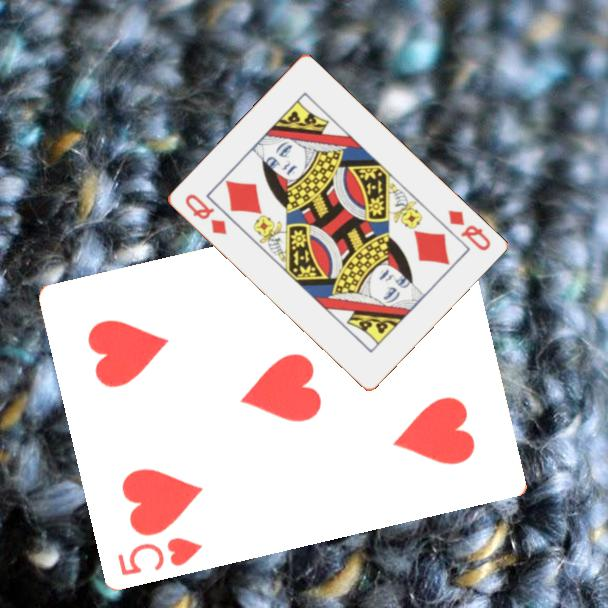d12: (444, 206, 493, 254), (181, 190, 229, 238)
h05: (114, 533, 206, 578)
